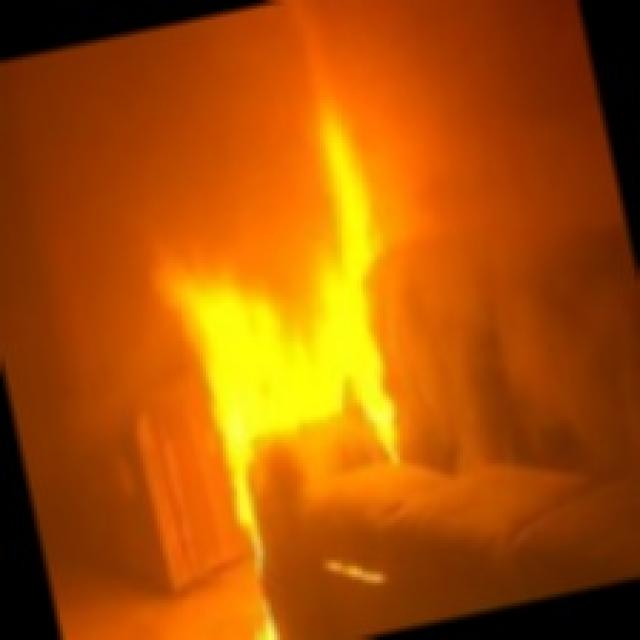fire: (101, 75, 522, 634)
